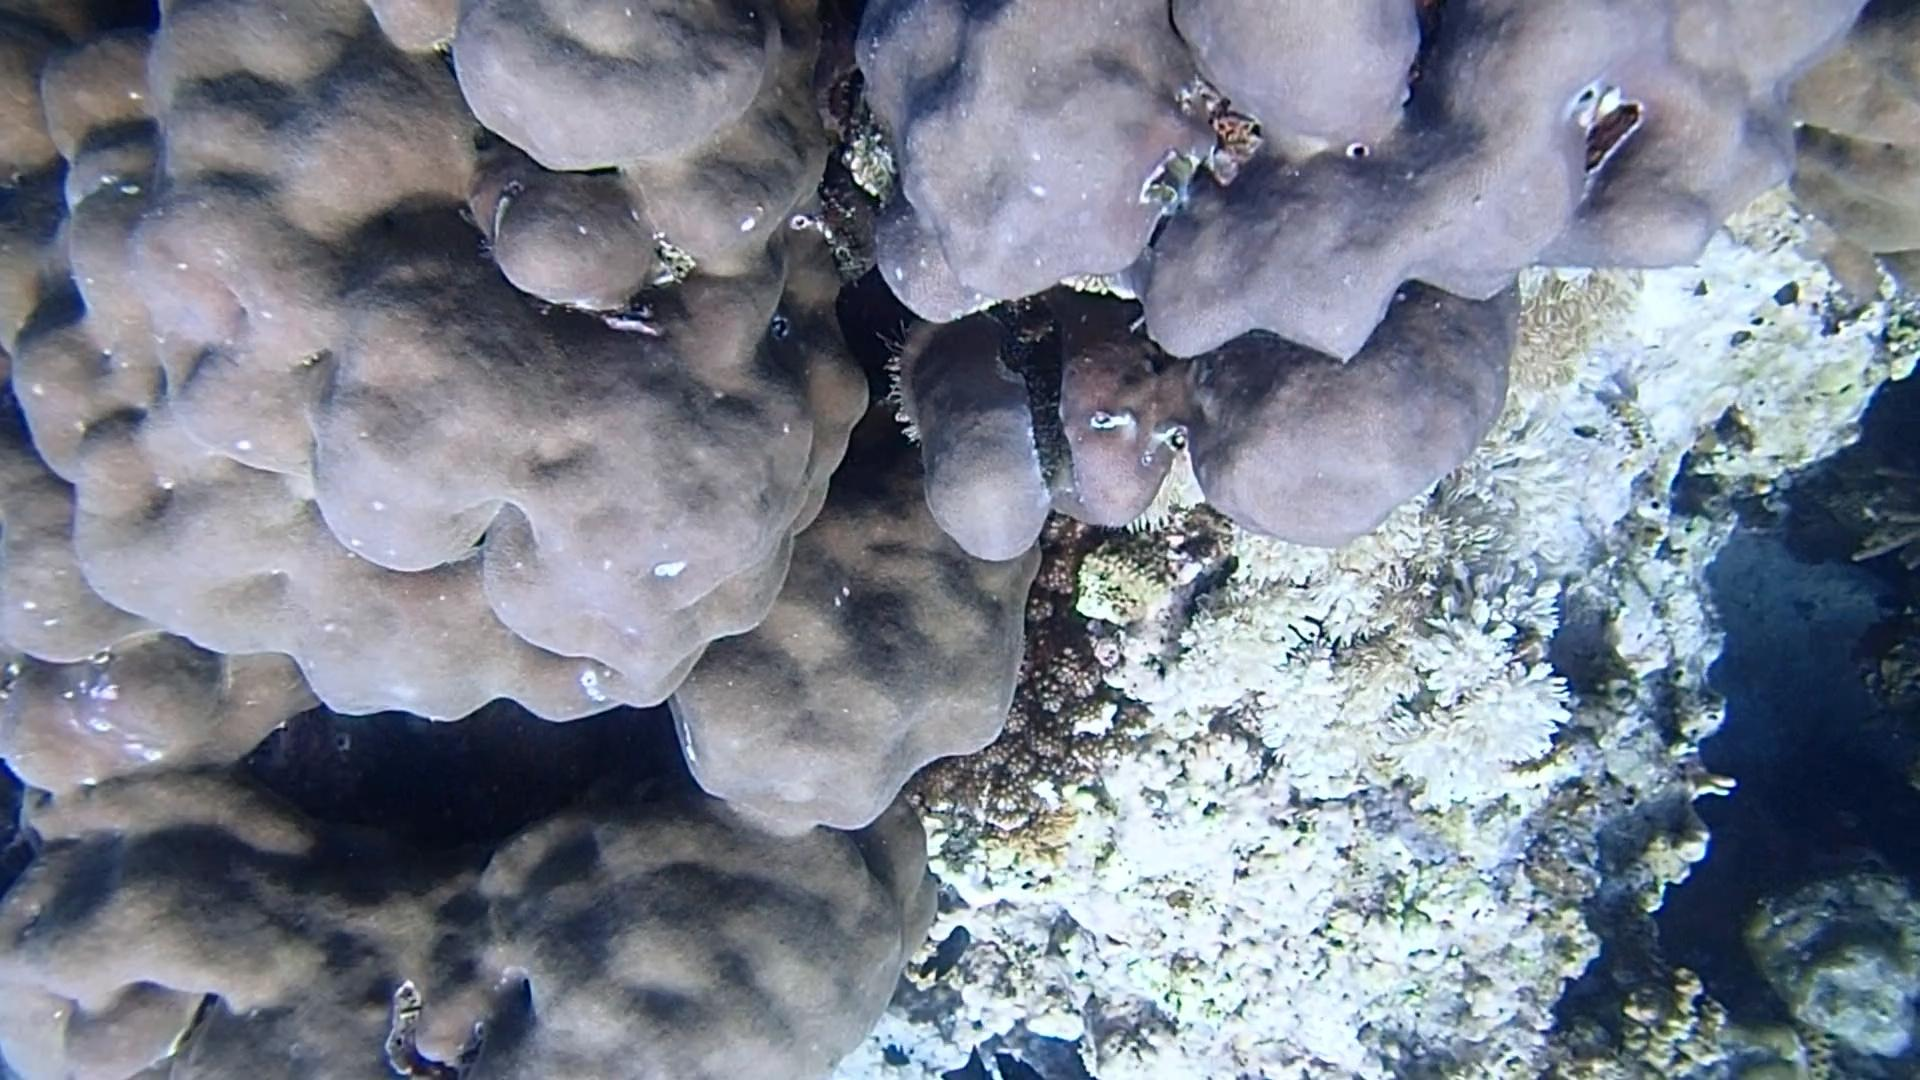Dark Fish: (914, 922, 980, 992), (878, 1040, 915, 1072)
